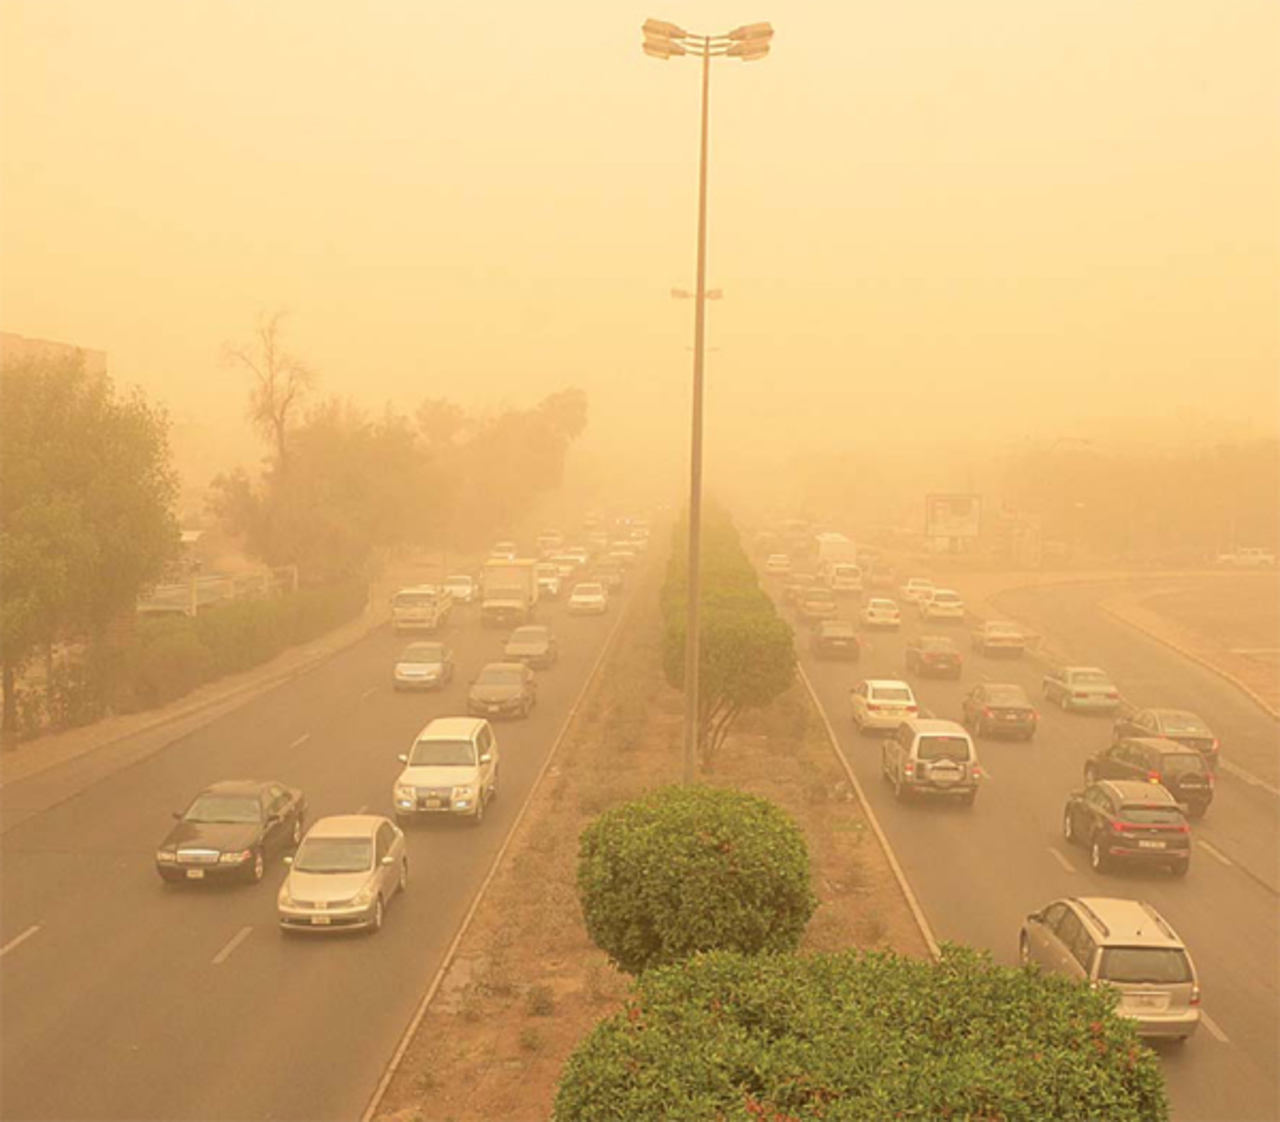car: (1016, 893, 1205, 1046), (276, 809, 411, 935), (156, 777, 306, 888), (1063, 773, 1191, 879), (1107, 716, 1221, 822), (396, 717, 503, 821), (886, 718, 982, 805), (967, 681, 1039, 742), (849, 678, 921, 735), (469, 662, 537, 722), (1048, 665, 1120, 713), (392, 639, 450, 691), (501, 622, 556, 669), (908, 638, 961, 677), (970, 621, 1023, 657), (805, 621, 854, 657), (918, 589, 962, 621), (566, 583, 610, 614), (793, 587, 833, 619), (821, 564, 862, 591), (861, 599, 899, 626), (442, 572, 475, 603), (588, 563, 623, 588), (537, 563, 559, 601), (779, 574, 808, 601), (895, 578, 926, 600), (487, 543, 517, 560), (559, 548, 588, 566), (764, 554, 788, 574), (537, 529, 559, 548)
truck: (480, 562, 537, 625), (387, 588, 450, 632), (811, 534, 845, 579)
